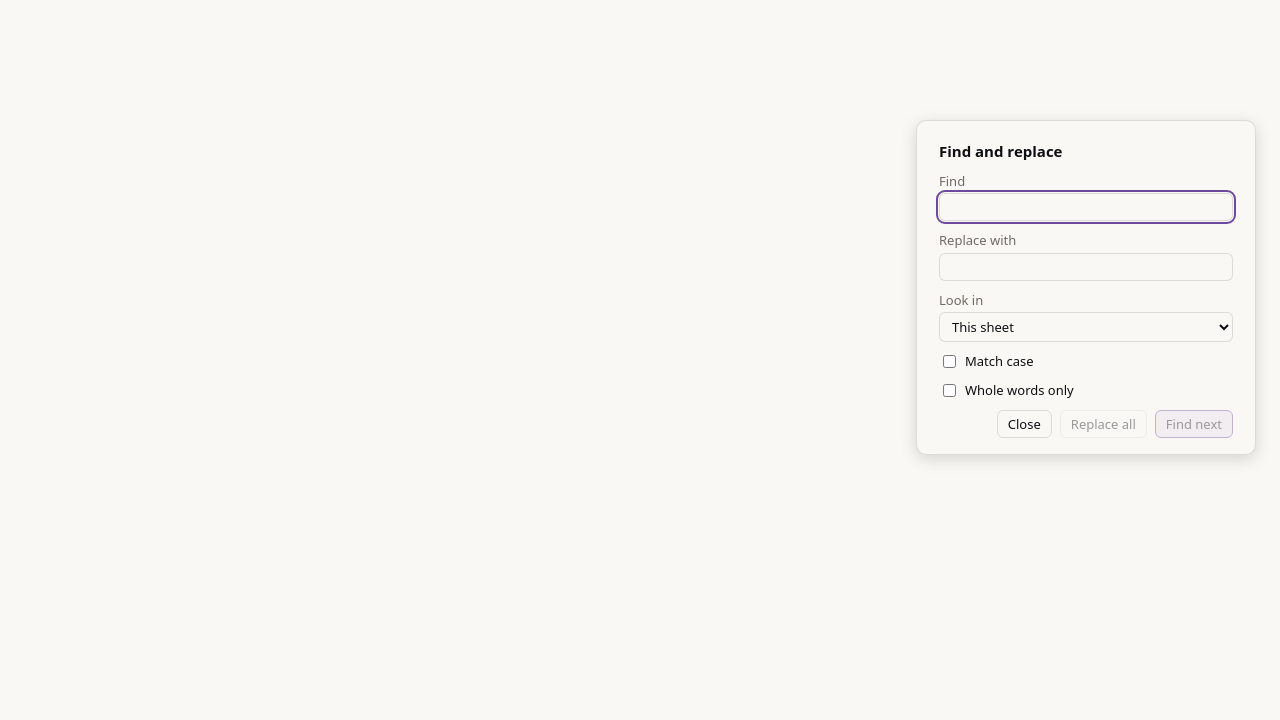
Test case: replace all says how many texts it left as they were
In the field labelled "Find": {"x": 1086, "y": 207} [939,193,1233,221], type "DOOR"
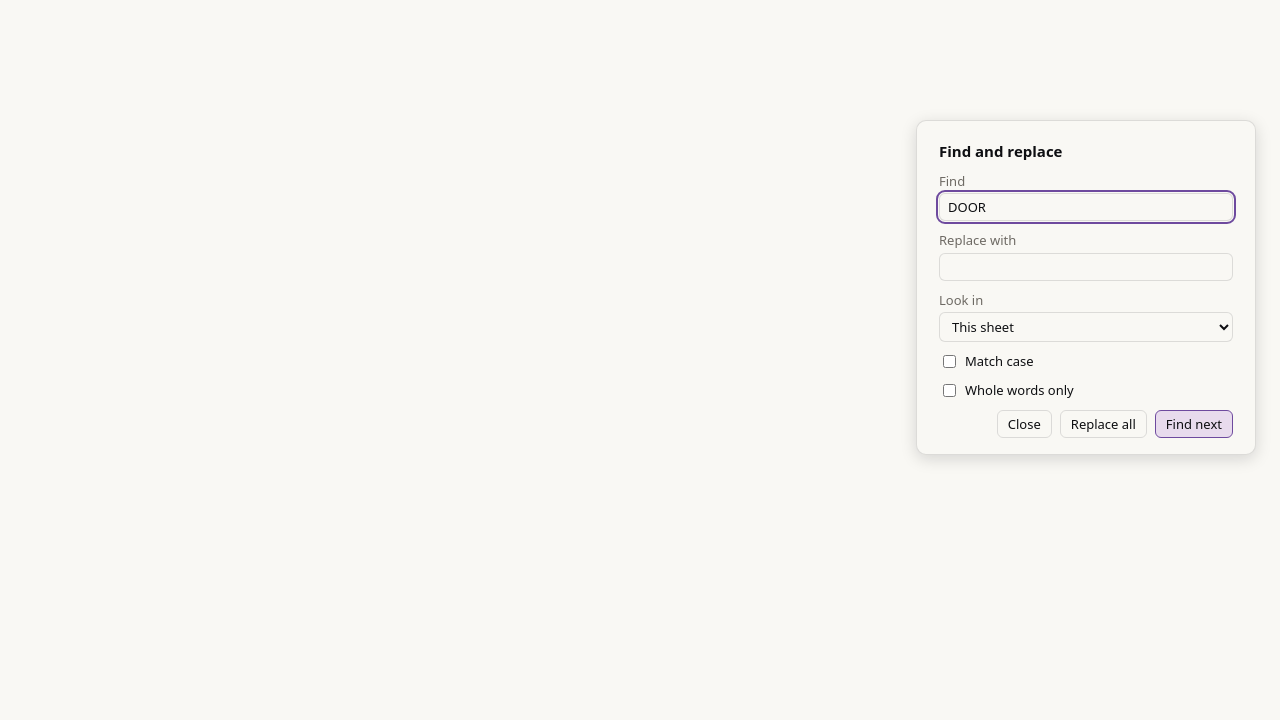
Click the button "Replace all": {"x": 1103, "y": 424} [1060,410,1147,438]
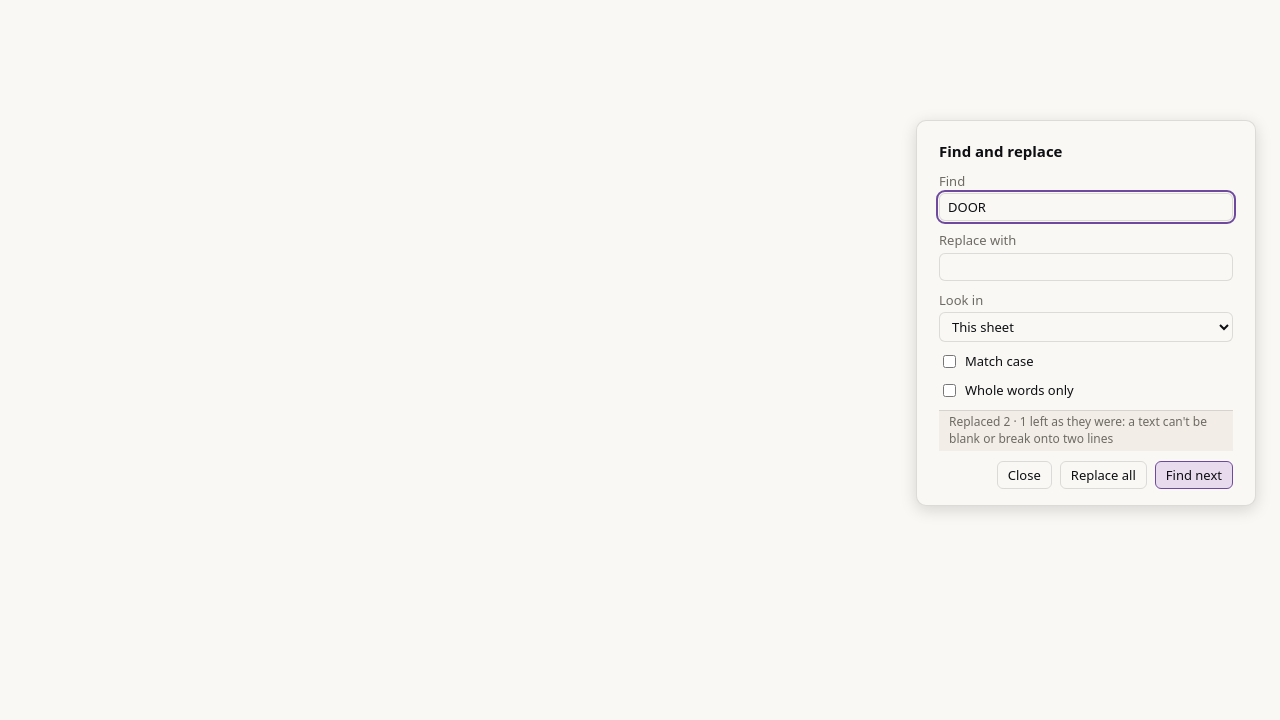
Expected: the message reads "Replaced 2 · 1 left as they were: a text can't be blank or break onto two lines", [949,413,1207,447]
